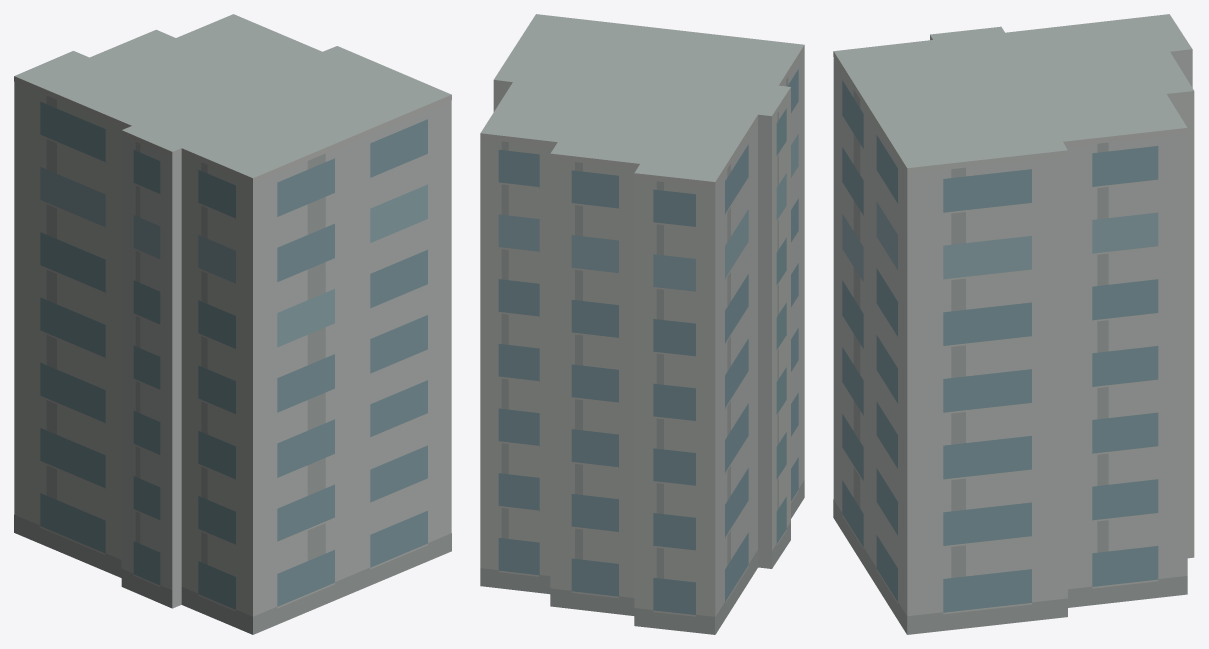
Rendered from survey-upis-32597436.glb.
The picture shows the model from 3 angles, left to right: view 1: azimuth 30°, elevation 25°; view 2: azimuth 150°, elevation 25°; view 3: azimuth 270°, elevation 25°; orthographic projection. The views are drawn at different scales.
Visible parts, largest first — view 1: survey-upis-32597436.tmp; view 2: survey-upis-32597436.tmp; view 3: survey-upis-32597436.tmp.
Part boxes in pixels (x1=…): survey-upis-32597436.tmp: x1=14, y1=14, x2=451, y2=634; survey-upis-32597436.tmp: x1=480, y1=14, x2=804, y2=634; survey-upis-32597436.tmp: x1=833, y1=14, x2=1194, y2=634.
Size of the model in its own units: 13.87 by 19.56 by 13.72.
